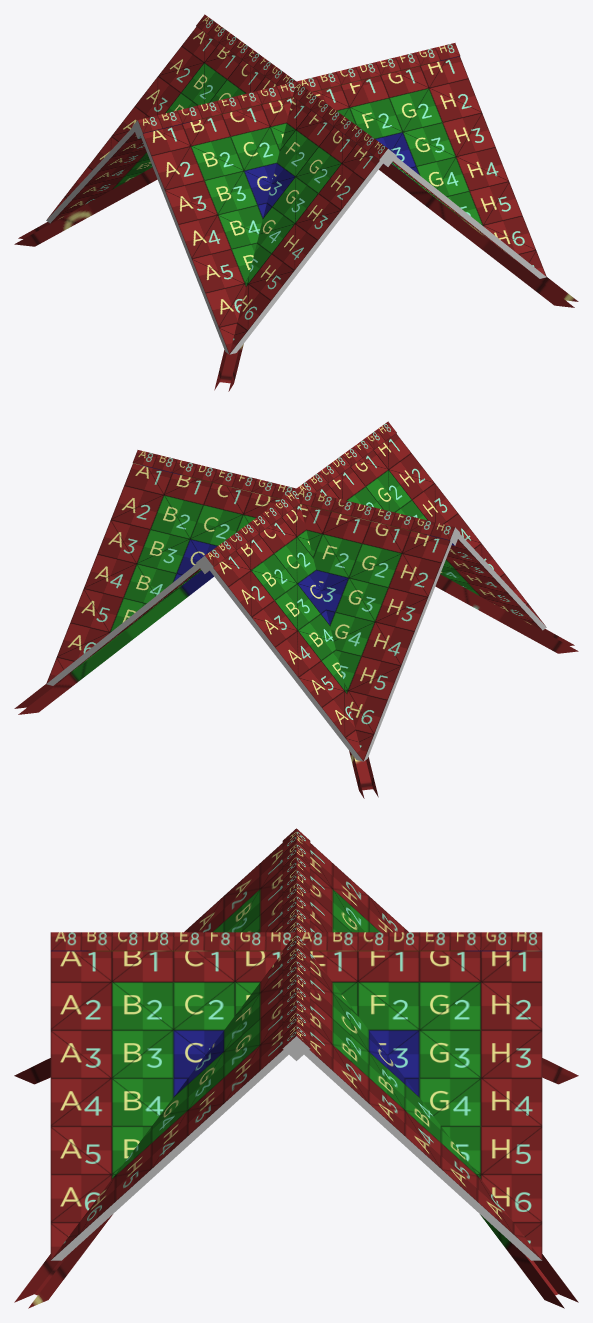
Rendered from CK Roof X.dae.
3 views of the same model, one above another, from view 1: azimuth 30°, elevation 25°; view 2: azimuth 150°, elevation 25°; view 3: azimuth 270°, elevation 25° (orthographic). The views are drawn at different scales.
Parts seen in each view (by area): view 1: Outer; view 2: Outer; view 3: Outer.
Boxes of the visible parts, box(x1,y1,x2,y2) form: Outer: box(14, 14, 578, 391); Outer: box(14, 421, 578, 798); Outer: box(14, 828, 578, 1308).
Size of the model in its own units: 5.74 by 5.74 by 2.88.
Materials: 8 (4 with a texture image).
